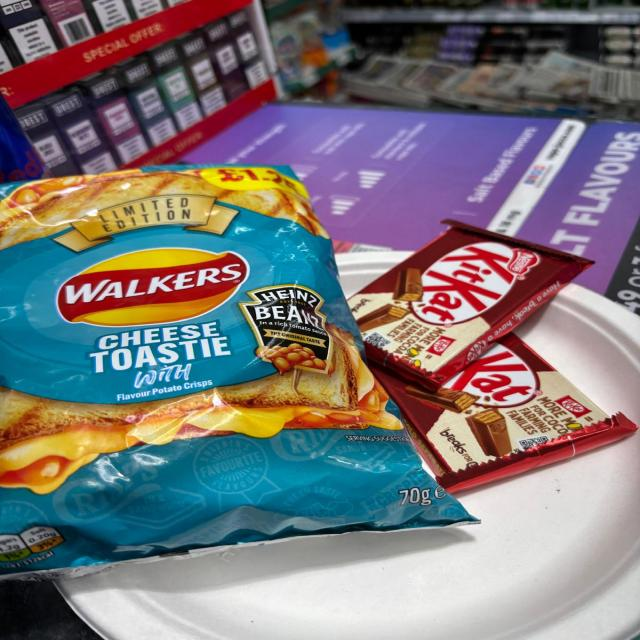crisp: (0, 162, 453, 556)
kitkat: (365, 192, 595, 380), (416, 328, 629, 484)
